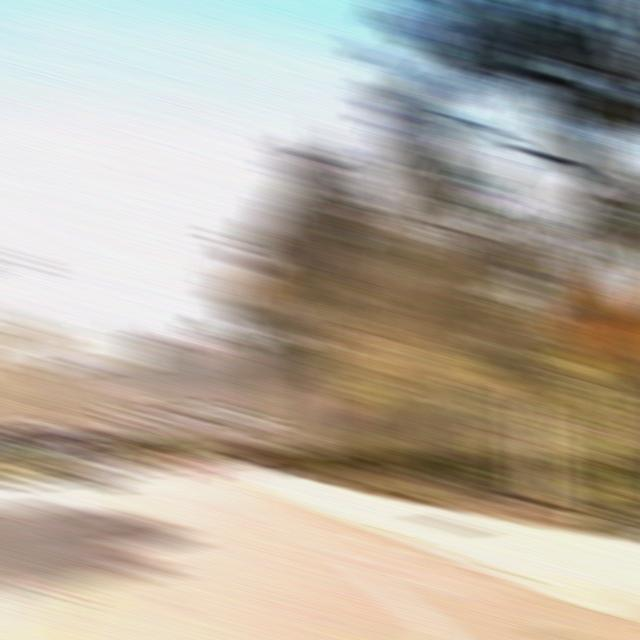stop: (312, 391, 353, 425)
